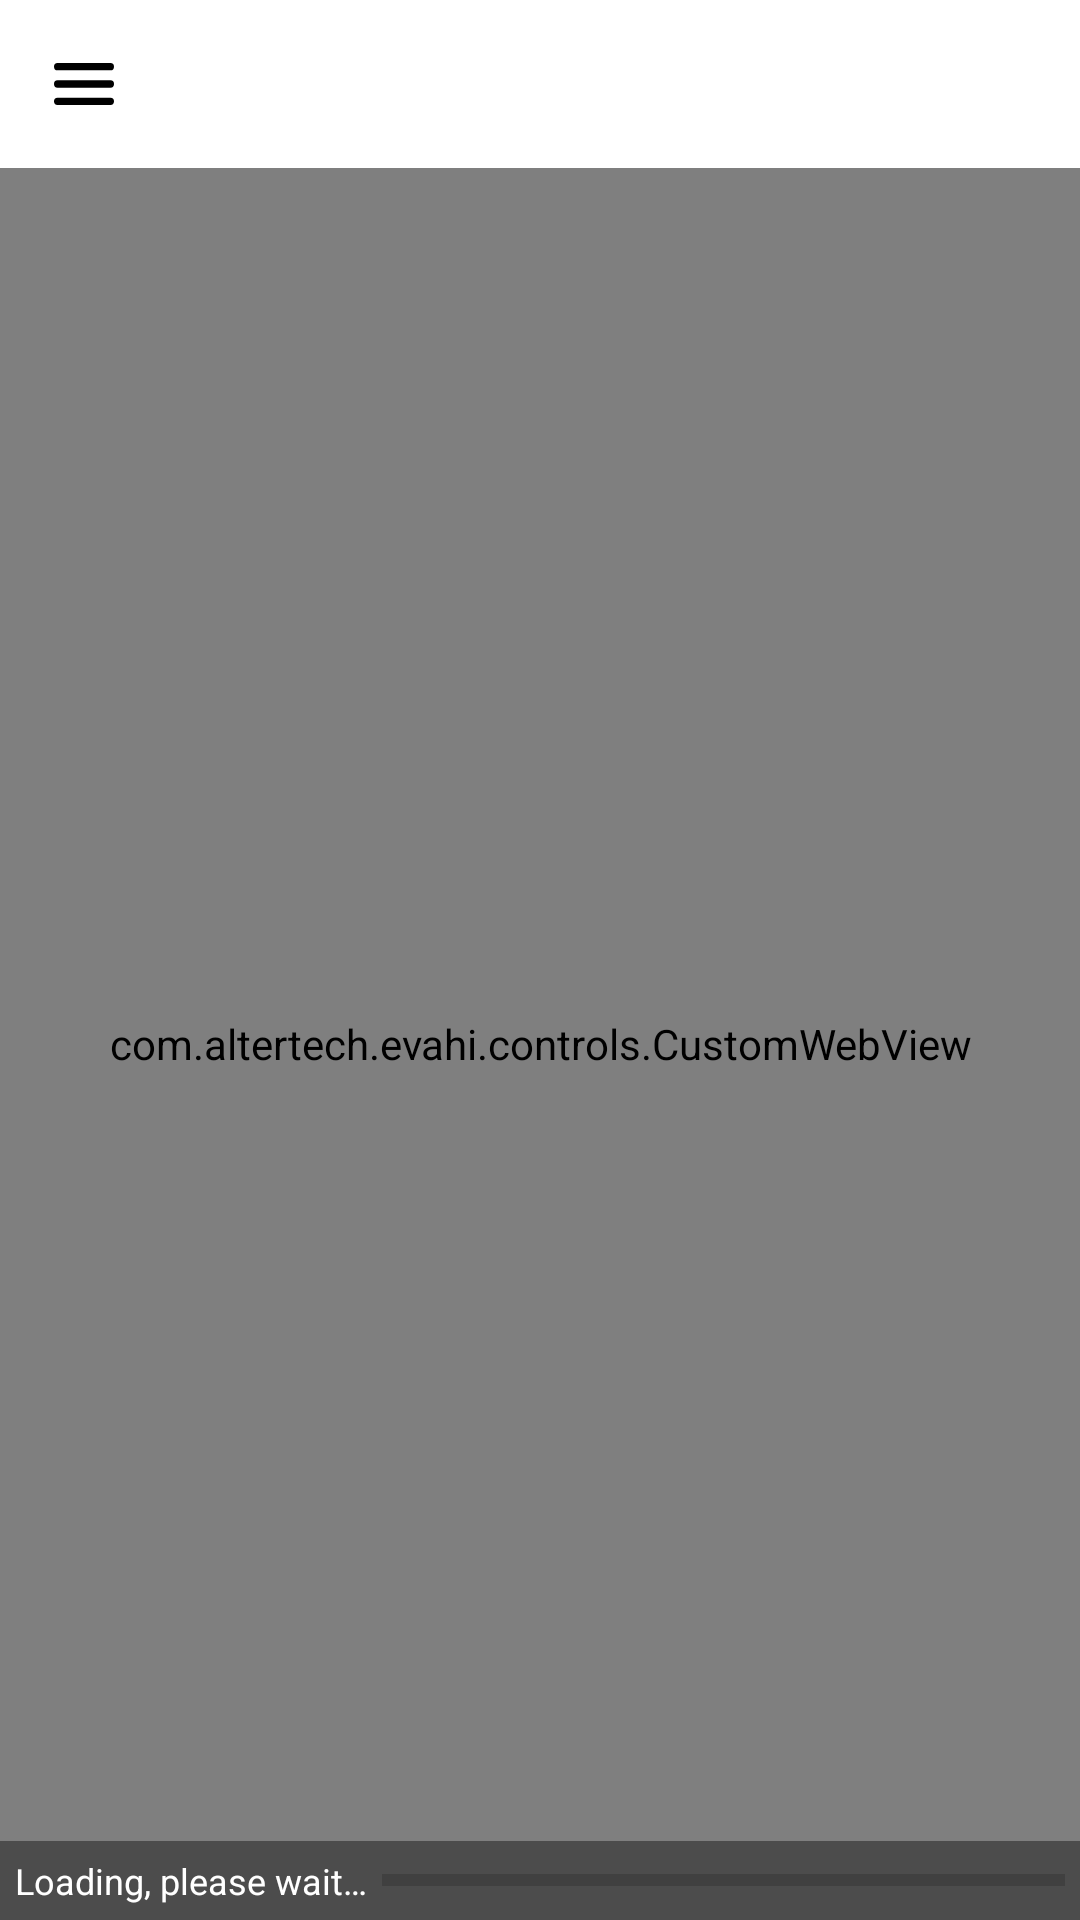

Named icons in this screenshot (1080px x 1920px) and their bounding boxes, (x1=x1, y1=y1, x2=x2, y2=y2):
menu: (x1=54, y1=63, x2=114, y2=105)
